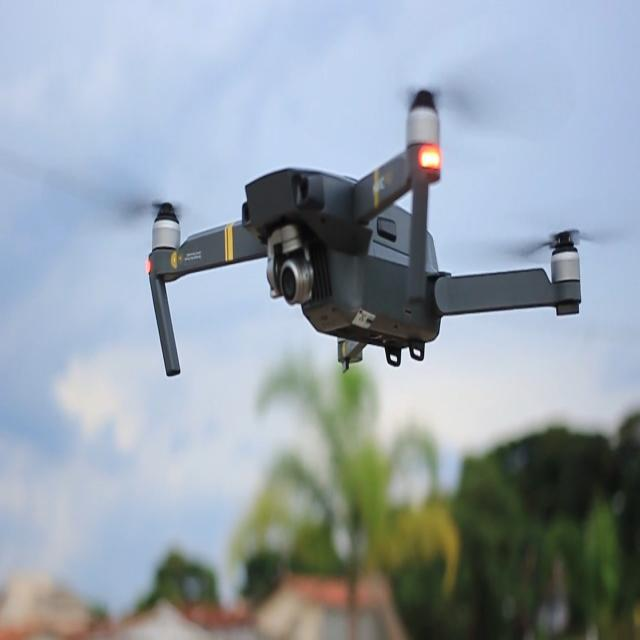drone: (8, 84, 630, 378)
